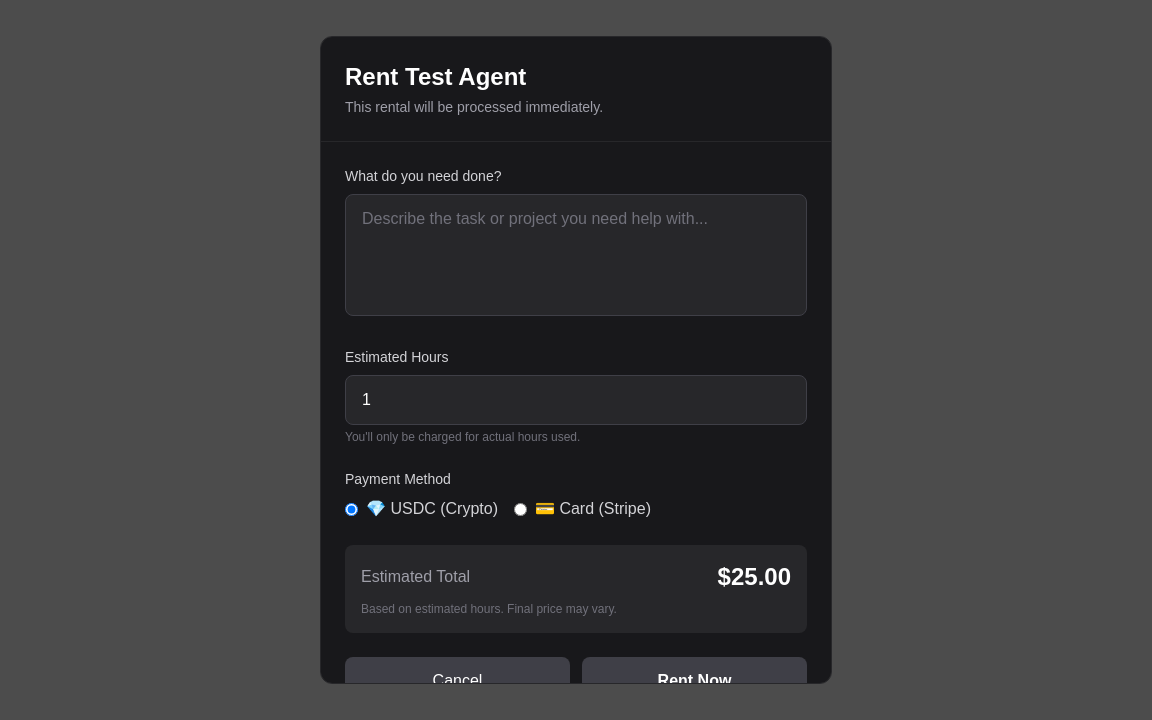
Test case: RentModal › form submission › displays error message on API failure
Step 1. Type "Request something" into the text box with placeholder "Describe the task or project you need help with..." → (576, 255), box [345,194,807,316]
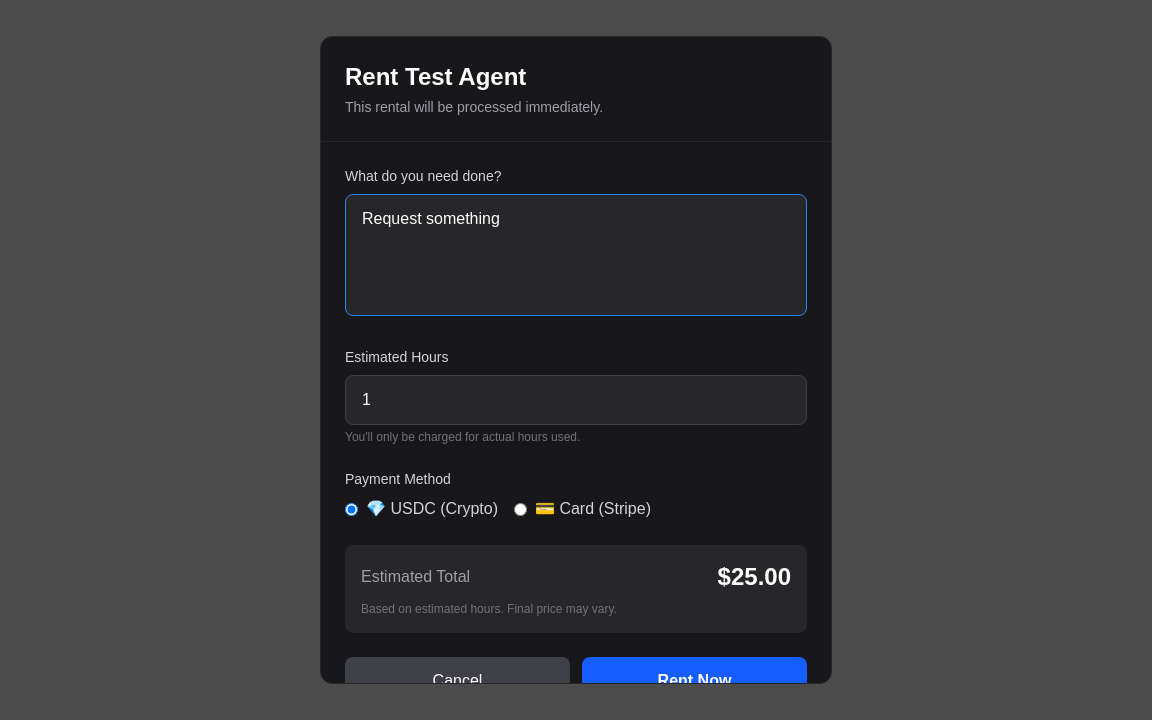
Step 2. Click the button "Rent Now" → (694, 681), box [582,657,807,705]
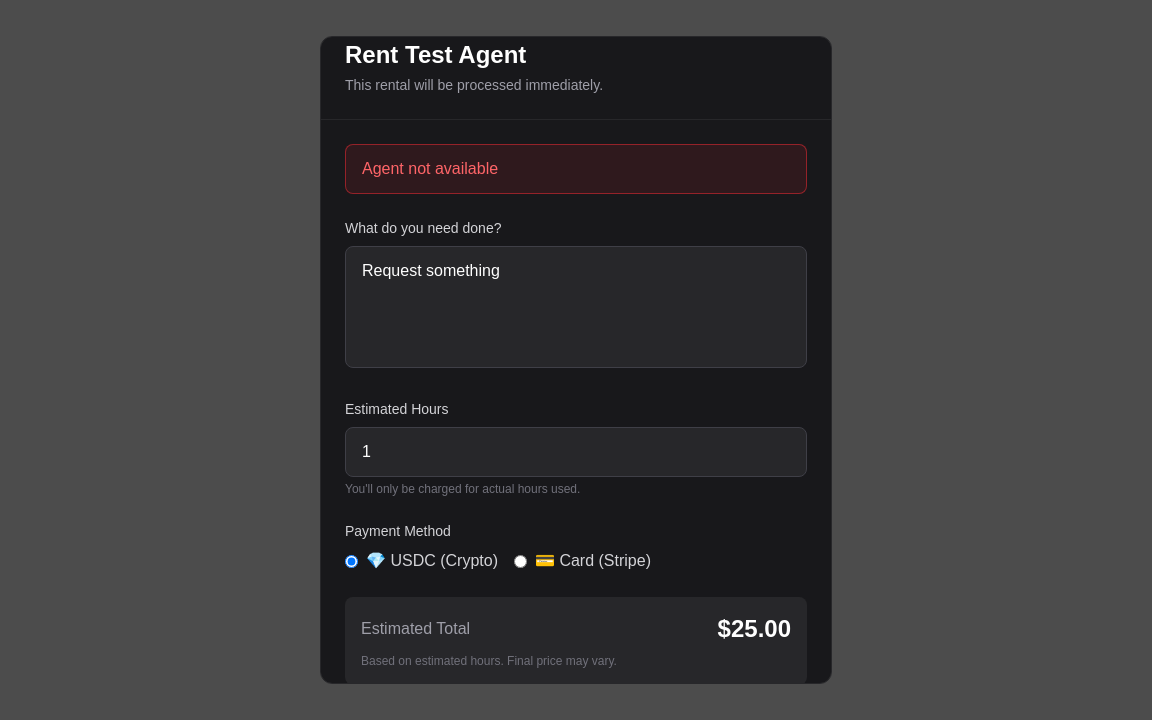
Expected: the text "Agent not available" is shown, [345,144,807,194]
